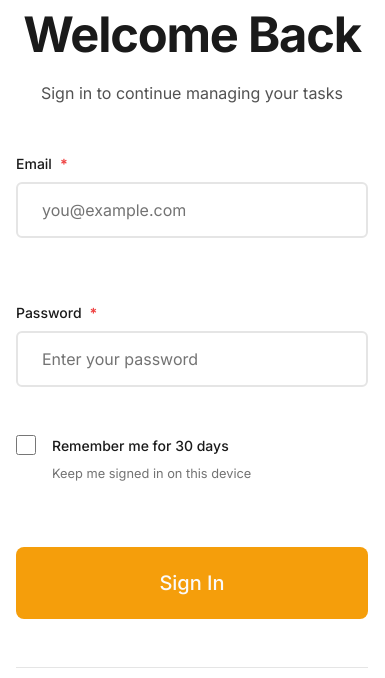
it: Login Page › Form Validation › validates email format
Type "invalid-email" into the field labelled "Email *".
click(192, 210); type("invalid-email")  # box [16, 182, 368, 238]
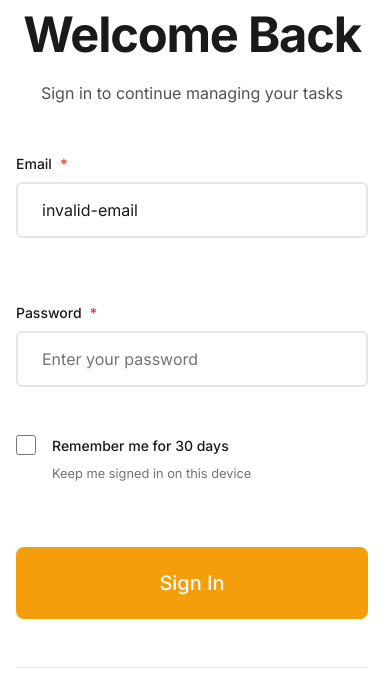
Leave the field labelled "Email *", box [16, 182, 368, 238]
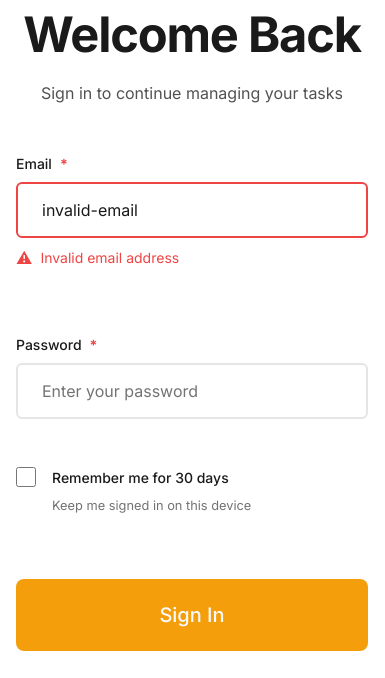
Result: the text "Invalid email address" is shown at [40, 249, 179, 266]
